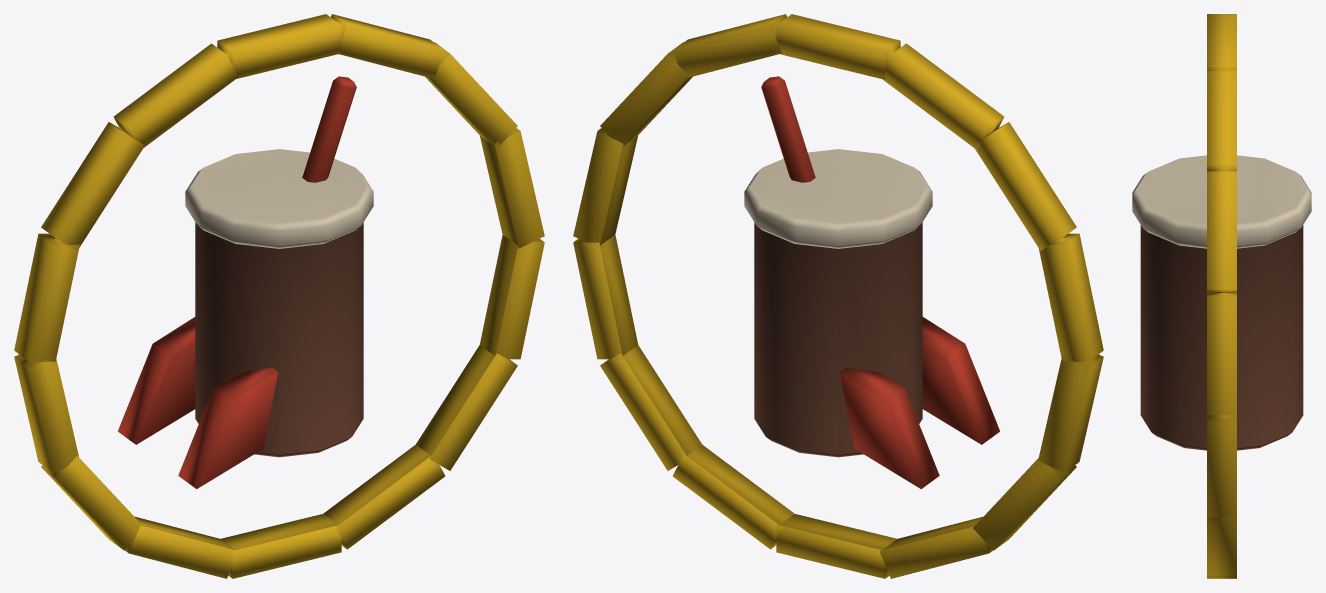
Rendered from snack_rocket.glb.
The picture shows the model from 3 angles, left to right: view 1: azimuth 30°, elevation 25°; view 2: azimuth 150°, elevation 25°; view 3: azimuth 270°, elevation 25°; orthographic projection. The views are drawn at different scales.
Parts seen in each view (by area): view 1: Floating gold ring; view 2: Floating gold ring; view 3: Floating gold ring.
Part boxes in pixels (x1,y1,x2,y2): Floating gold ring: (14, 14, 544, 578); Floating gold ring: (573, 14, 1103, 578); Floating gold ring: (1132, 14, 1311, 578).
Bounding box in the file's own units: 0.8848 × 0.8649 × 0.2753.
